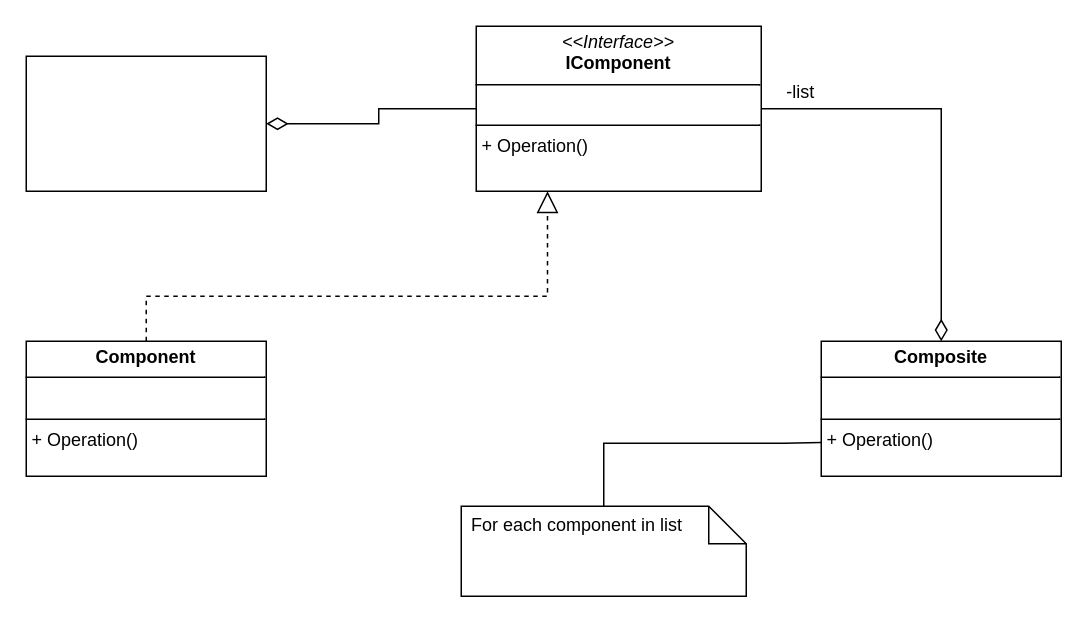
This 1088x623 diagram has some shape labels left out. Here are the shapes that lost their labels. From the top down, the centre of each, then its label:
point 145,123: Client
point 603,550: Call Operation()
